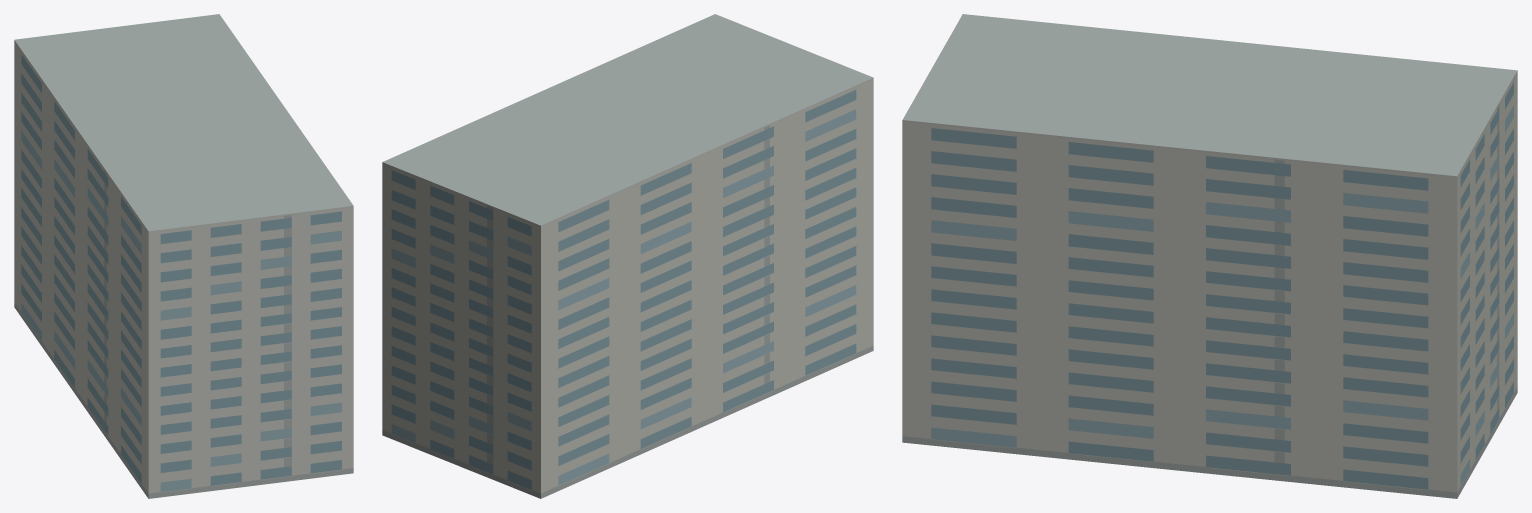
The model's file is residential-1152e332-3fce-42a3-8072-8d6e108f8425.glb.
3 renders of one model, left to right at view 1: azimuth 30°, elevation 25°; view 2: azimuth 150°, elevation 25°; view 3: azimuth 270°, elevation 25°, orthographic. The views are drawn at different scales.
Visible parts, largest first — view 1: residential-1152e332-3fce-42a3-8072-8d6e108f8425.tmp; view 2: residential-1152e332-3fce-42a3-8072-8d6e108f8425.tmp; view 3: residential-1152e332-3fce-42a3-8072-8d6e108f8425.tmp.
Part boxes in pixels (x1,y1,x2,y2): residential-1152e332-3fce-42a3-8072-8d6e108f8425.tmp: (14,14,353,498); residential-1152e332-3fce-42a3-8072-8d6e108f8425.tmp: (382,14,873,498); residential-1152e332-3fce-42a3-8072-8d6e108f8425.tmp: (902,14,1517,498).
Size of the model in its own units: 45.33 by 42 by 72.58.
